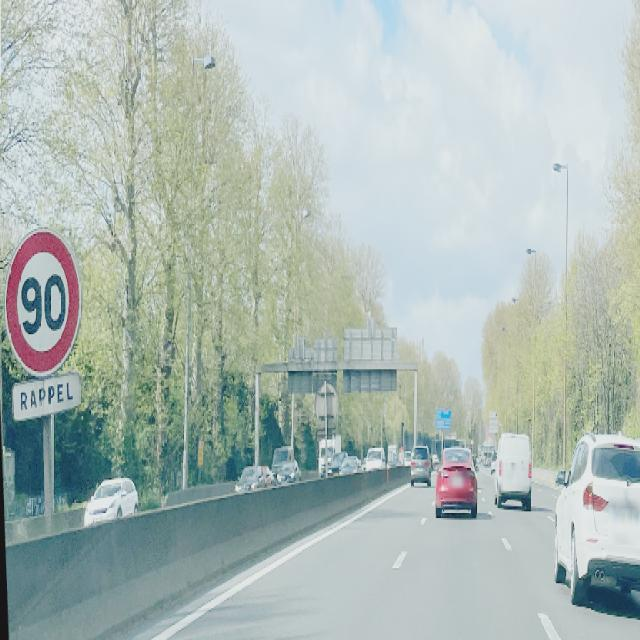speed_90: (4, 229, 83, 378)
